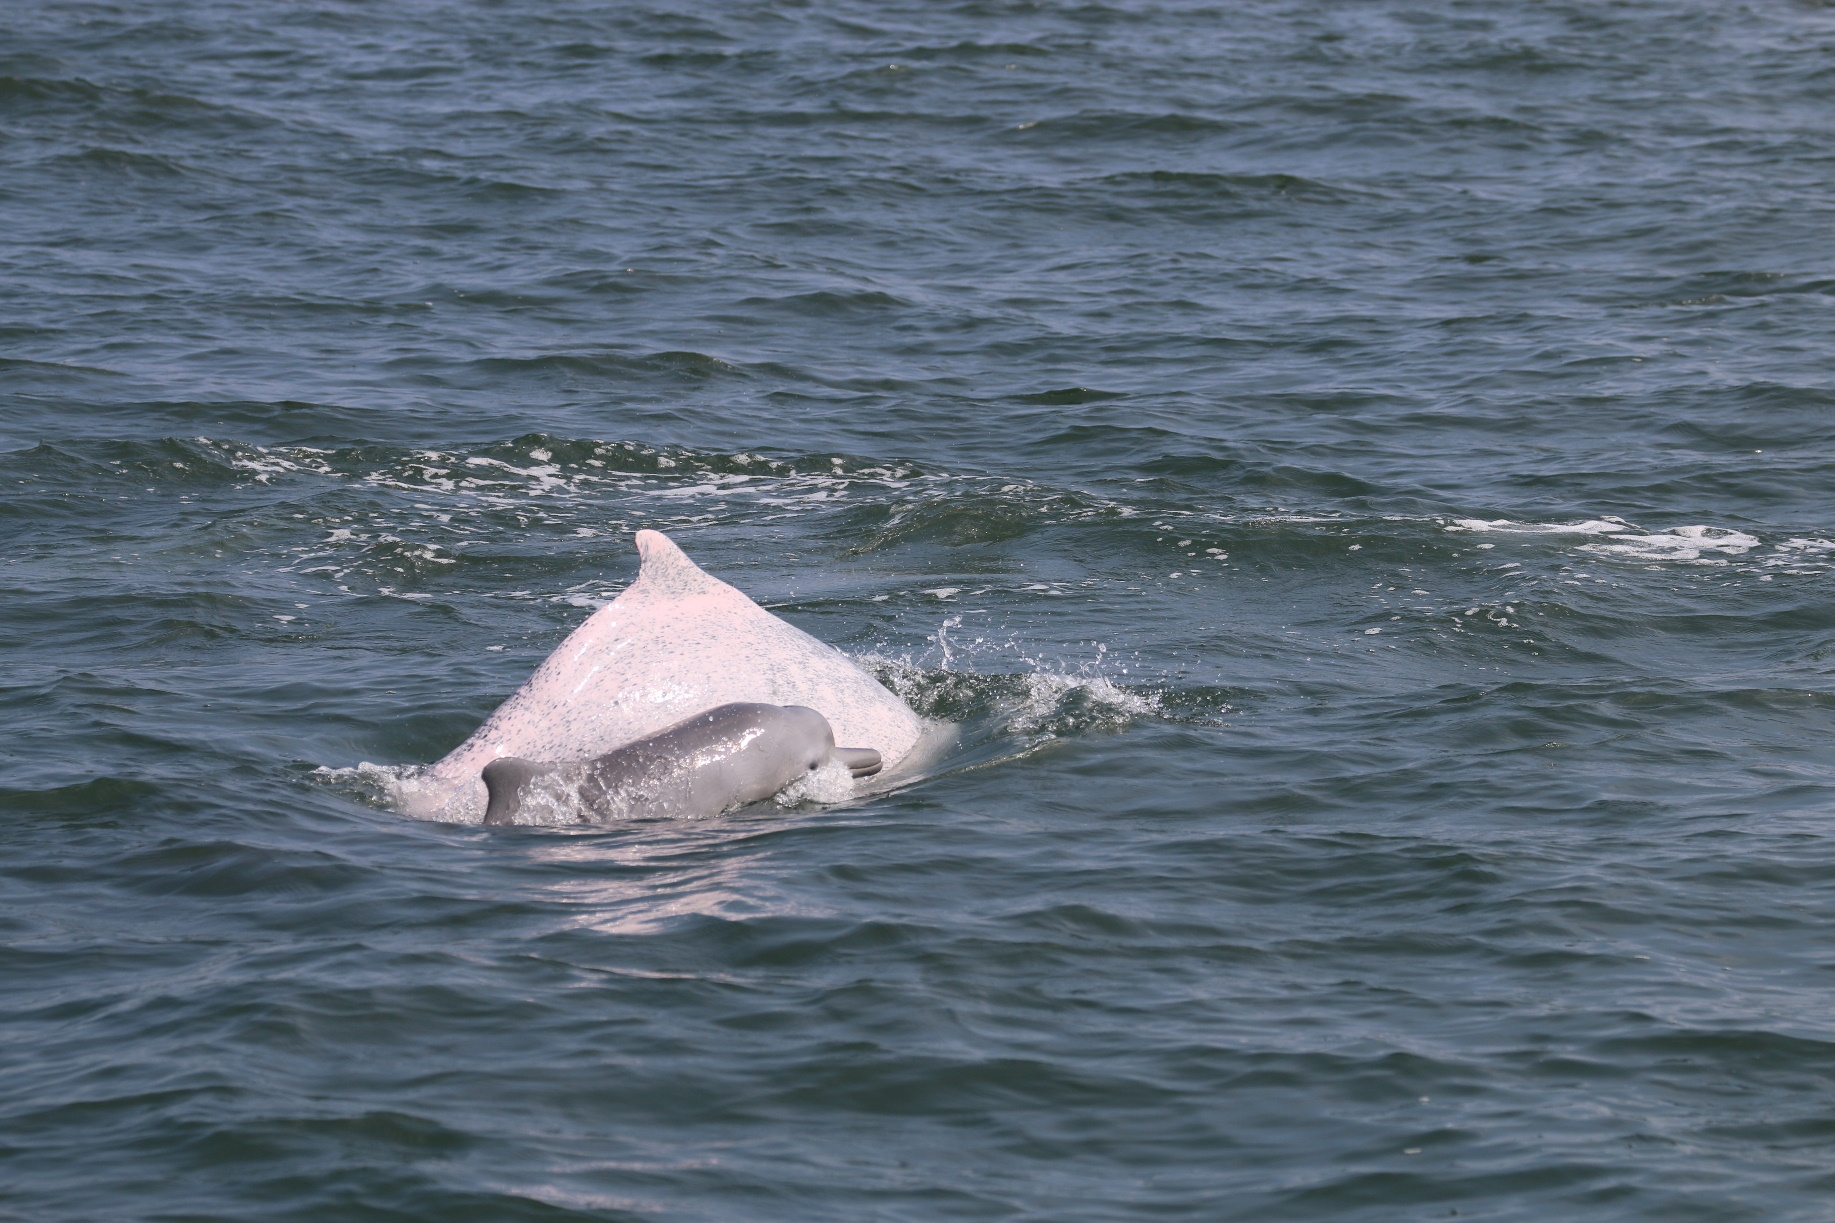fin: (338, 504, 977, 854)
